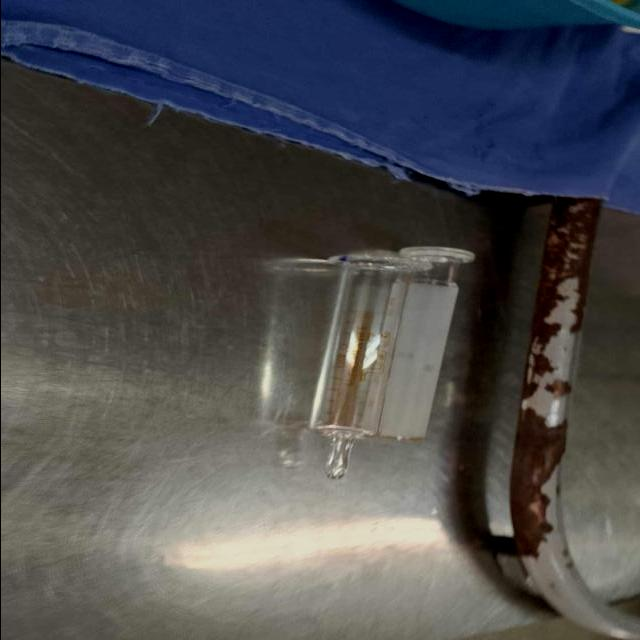General: (3, 3, 638, 637), (2, 2, 640, 217)
Sharps: (306, 245, 476, 481)
